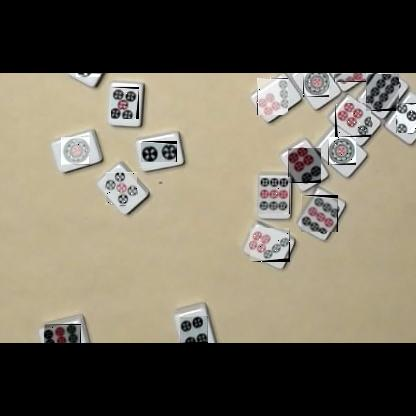1p: (61, 137, 90, 165), (328, 137, 356, 165), (303, 73, 329, 97)
2p: (141, 141, 177, 162), (76, 73, 101, 77)
4p: (180, 316, 208, 343), (396, 103, 416, 133)
5p: (105, 172, 137, 205), (111, 87, 139, 119)
6p: (335, 103, 371, 137), (288, 148, 321, 183)
7p: (250, 228, 290, 262), (257, 78, 288, 115), (334, 73, 367, 82)
8p: (366, 74, 399, 111)
9p: (301, 195, 338, 232), (258, 177, 290, 214), (44, 324, 81, 343)
